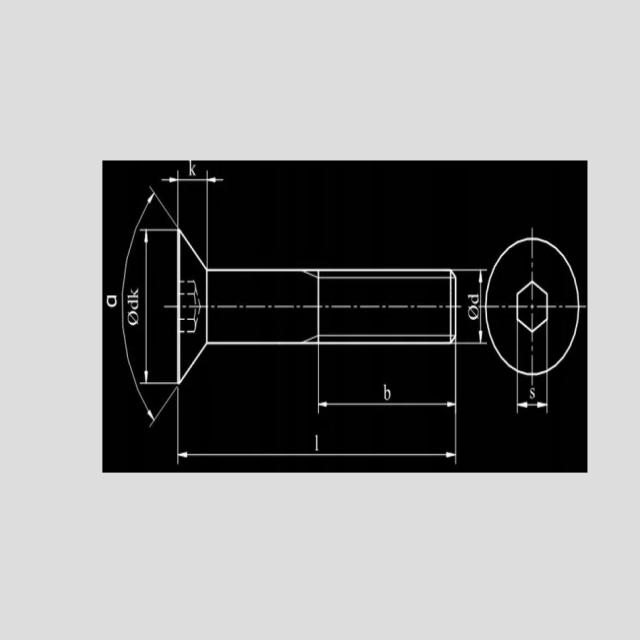marking_line: (176, 387, 458, 465), (120, 186, 175, 427), (316, 346, 461, 415), (139, 229, 176, 388), (162, 176, 223, 228), (458, 267, 487, 347), (515, 376, 550, 413)
numeric: (382, 383, 391, 402), (466, 293, 481, 304), (314, 433, 321, 454), (188, 161, 197, 177), (128, 286, 139, 299), (106, 296, 117, 308), (126, 299, 139, 309), (529, 385, 536, 400)
special_symbol: (126, 311, 140, 327), (468, 304, 480, 320)
